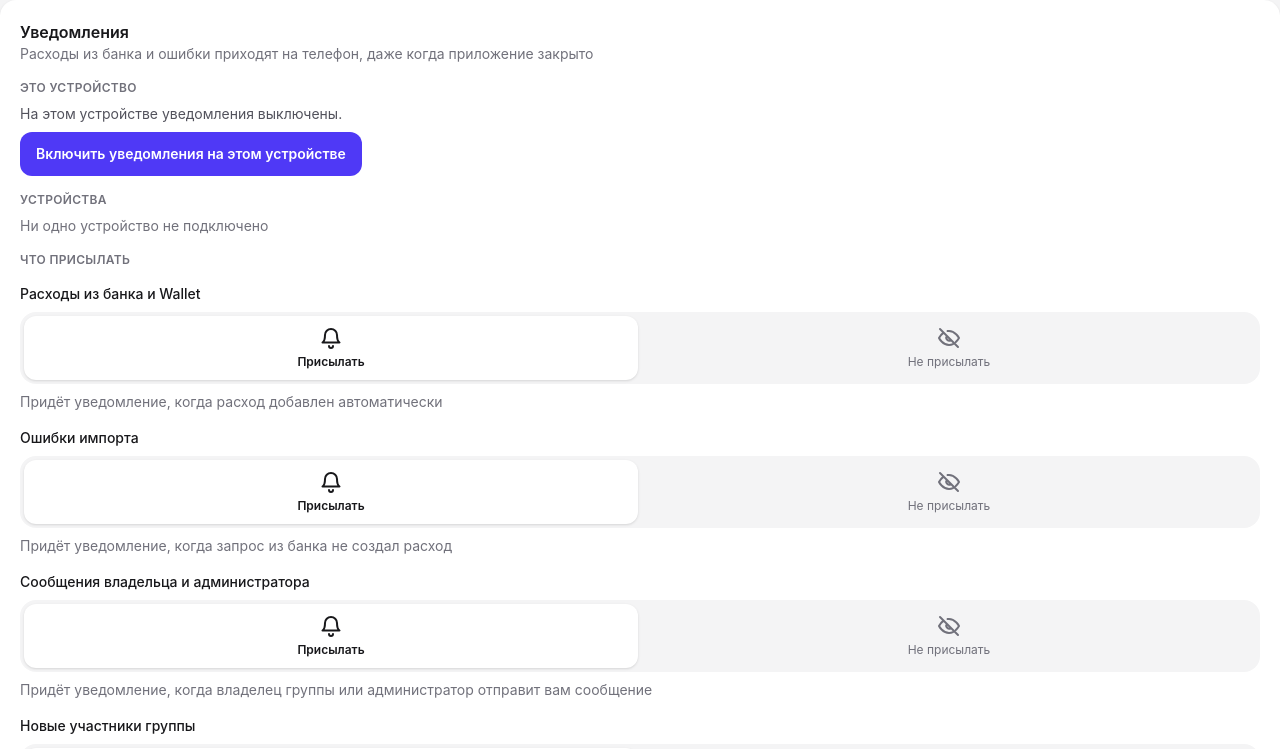
Scenario: включение › окно закрыли без ответа: просьба нажать ещё раз
The image size is (1280, 749).
What coordinates should you click on to do the following:
click the button "Включить уведомления на этом устройстве"
I would click on:
 (191, 154)
Its box is left=20, top=132, right=362, bottom=176.
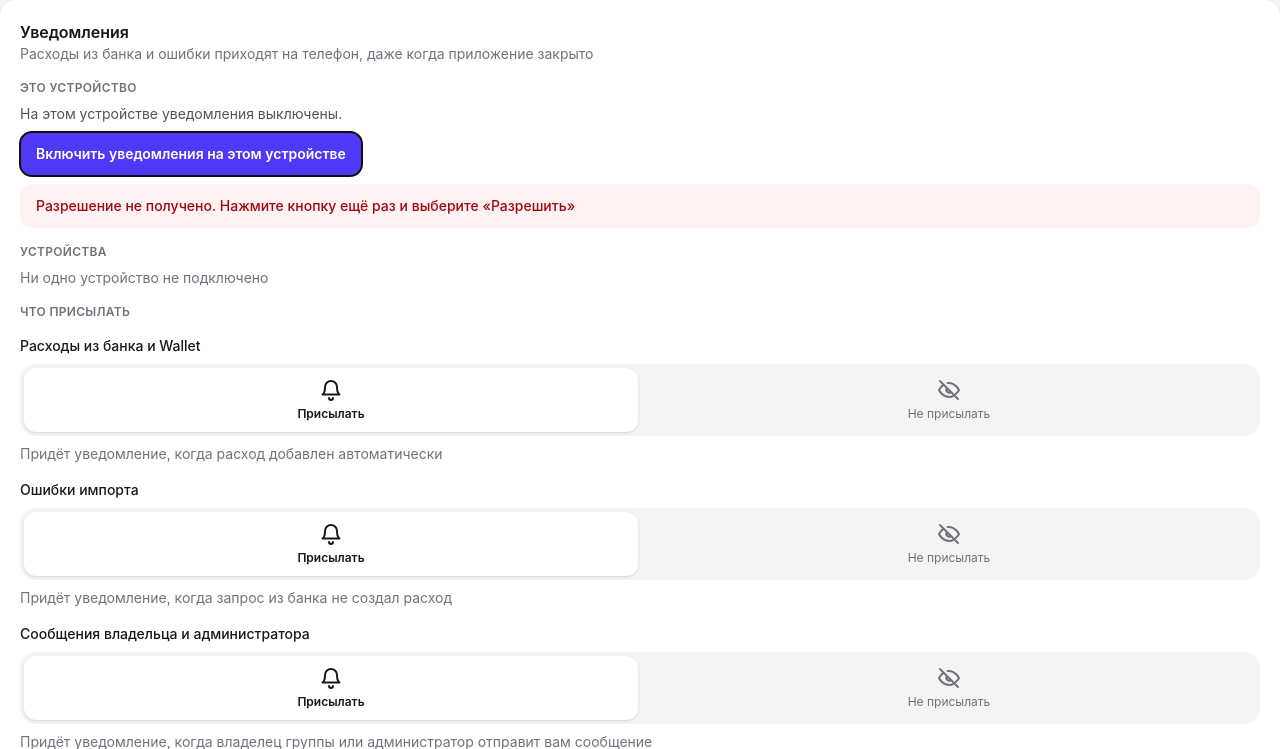
Check: the text "Разрешение не получено. Нажмите кнопку ещё раз и выберите «Разрешить»" is shown, box left=20, top=184, right=1260, bottom=228
